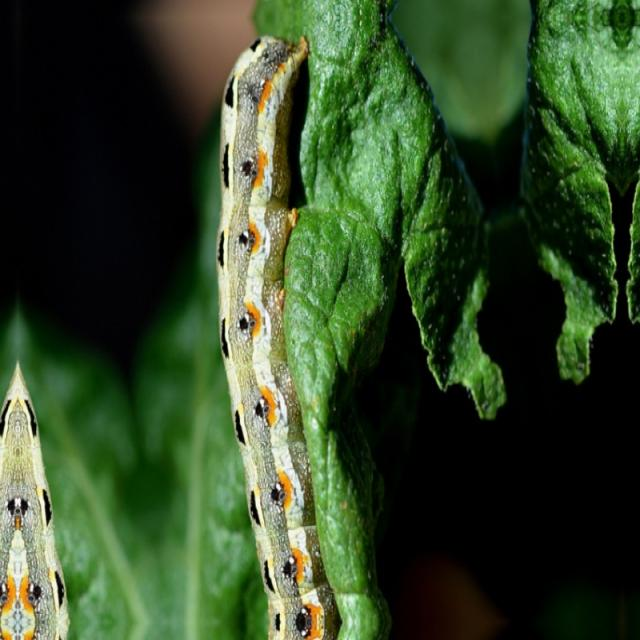armyworm: (214, 32, 340, 638), (0, 359, 70, 638)
